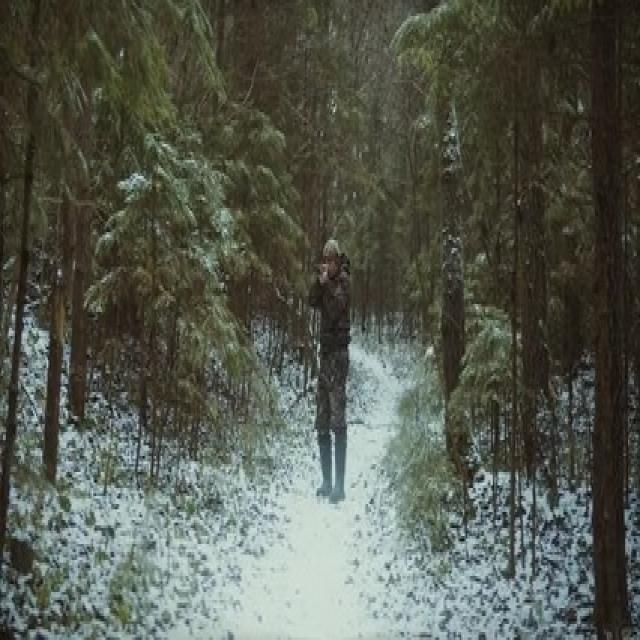Gun_Holder: (318, 260, 330, 278)
Person: (306, 236, 347, 496)
